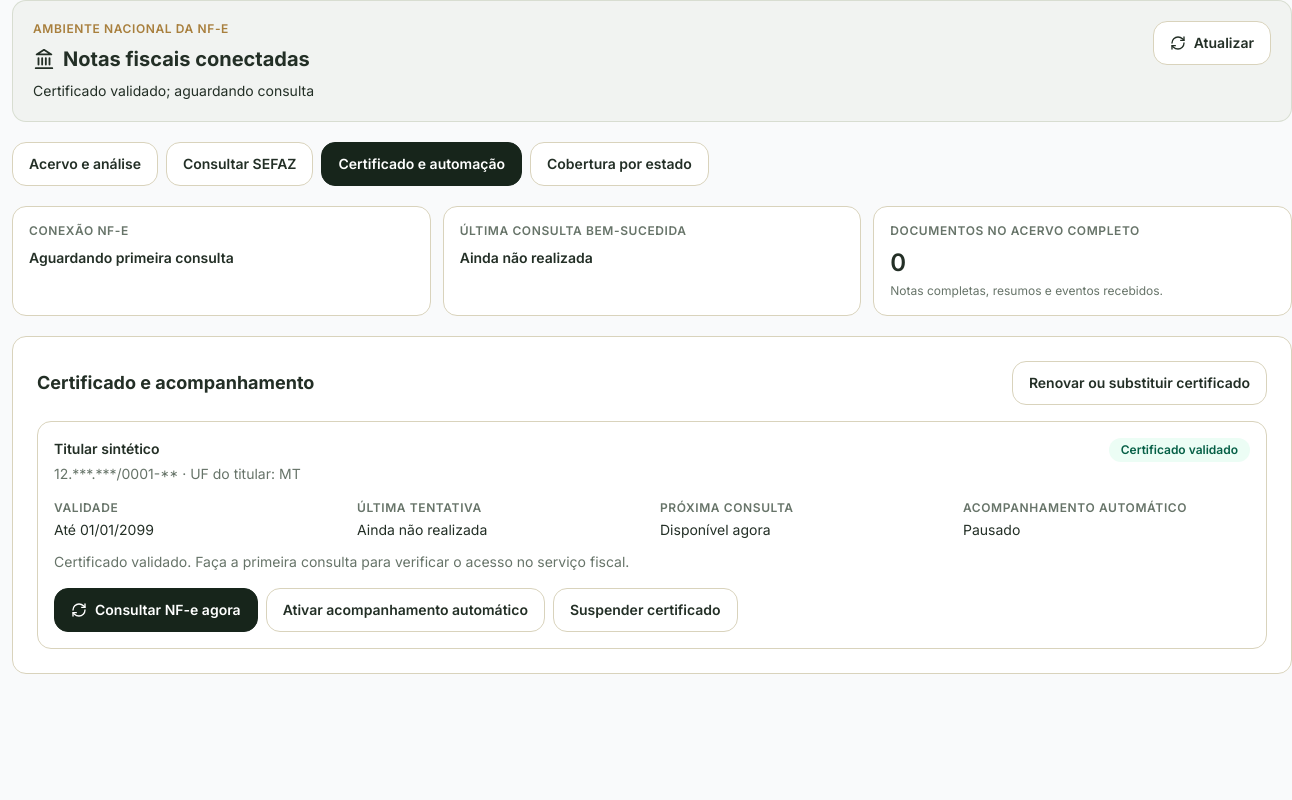
it: Consultas e acompanhamento NF-e › uma falha da consulta recarrega a situação e mantém a mensagem sem inventar sucesso
Click the button "Consultar NF-e agora".
click(156, 610)  # box top-left (54, 588), bottom-right (258, 632)
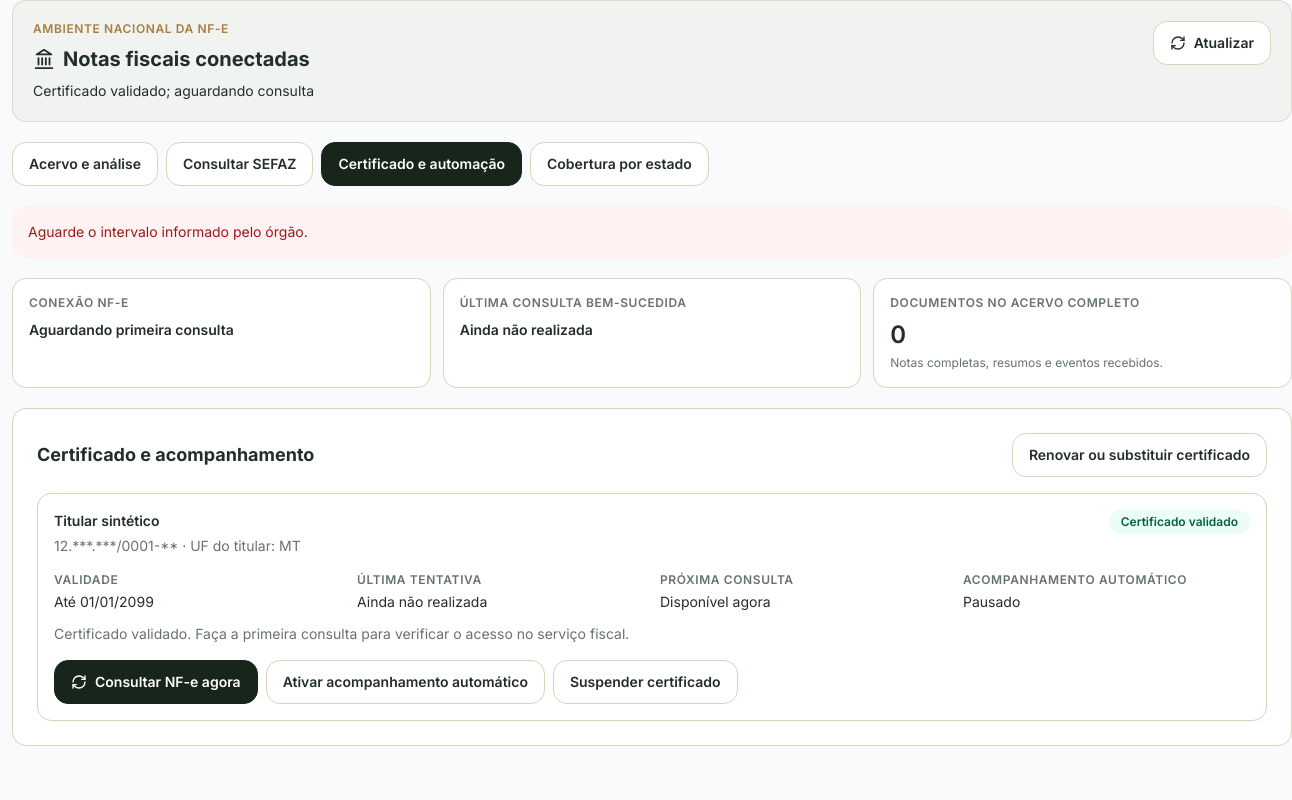
Check: the message "Aguarde o intervalo informado pelo órgão." is shown, box top-left (12, 206), bottom-right (1291, 258)
